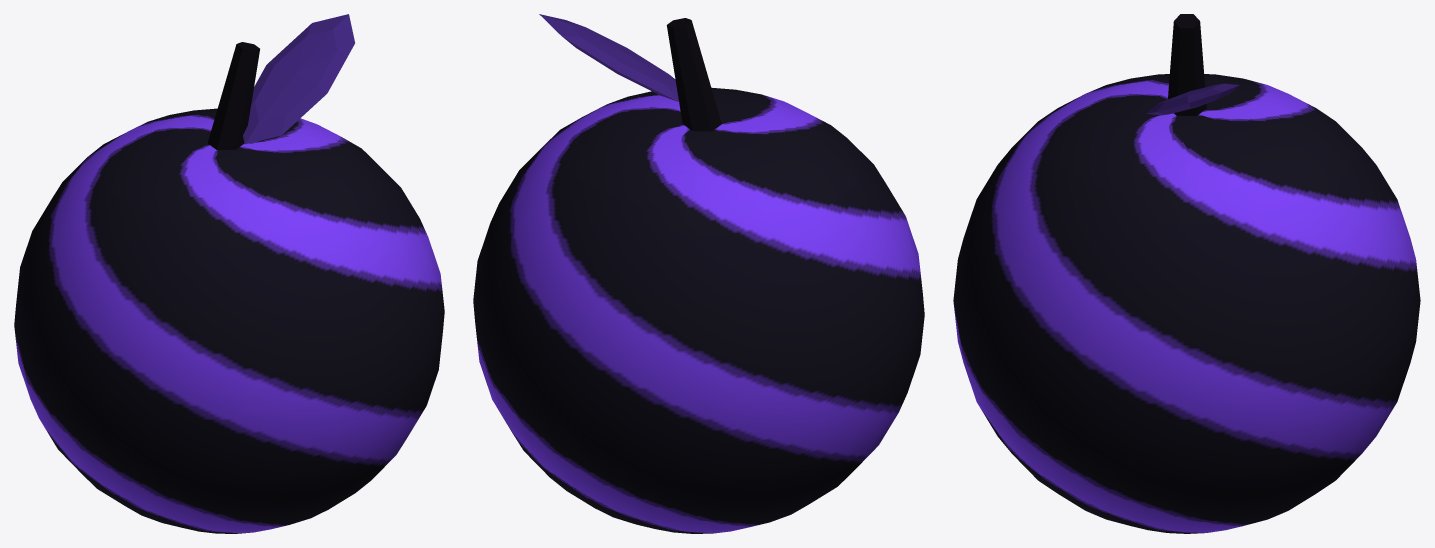
The model's file is Fruit_Void.fbx.
3 renders of one model, left to right at view 1: azimuth 30°, elevation 25°; view 2: azimuth 150°, elevation 25°; view 3: azimuth 270°, elevation 25°, orthographic. The views are drawn at different scales.
Visible parts, largest first — view 1: Fruit_Void; view 2: Fruit_Void; view 3: Fruit_Void.
Boxes of the visible parts, x1,y1,x2,y2 form: Fruit_Void: [14, 14, 444, 533]; Fruit_Void: [473, 14, 924, 533]; Fruit_Void: [953, 14, 1420, 533].
Size of the model in its own units: 1.6 by 1.9 by 1.6.
1 material, 1 textured.
